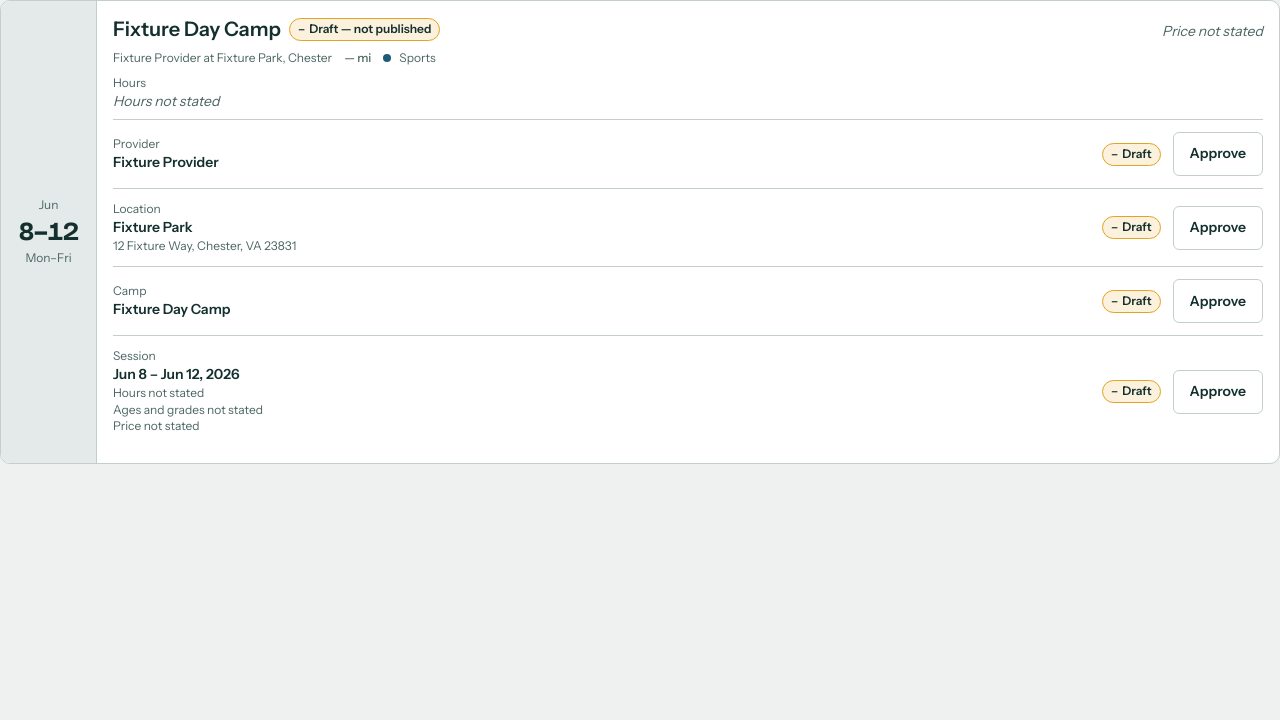
Scenario: approving › shows the function's message beside the refused control, and re-enables it
Click the button with aria-label "Approve session: Fixture Day Camp" at (1218, 392), box [1172,370,1263,414]
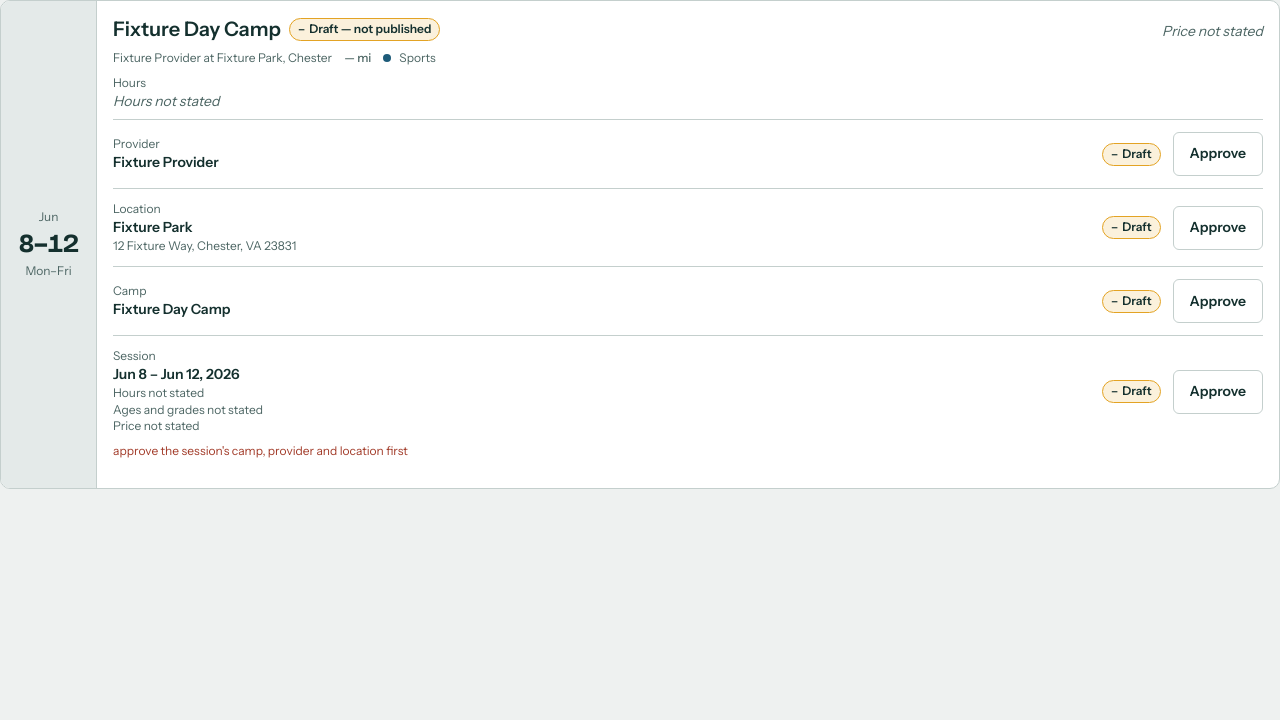
Expected: the message reads "approve the session's camp, provider and location first", [113,443,408,458]
